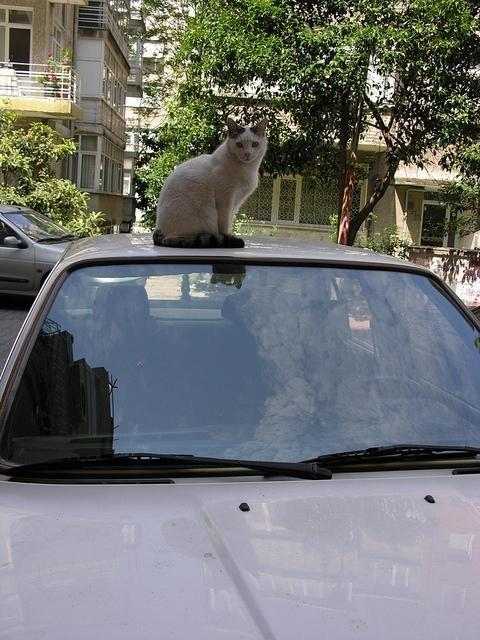car: (0, 231, 479, 633), (2, 204, 88, 296)
